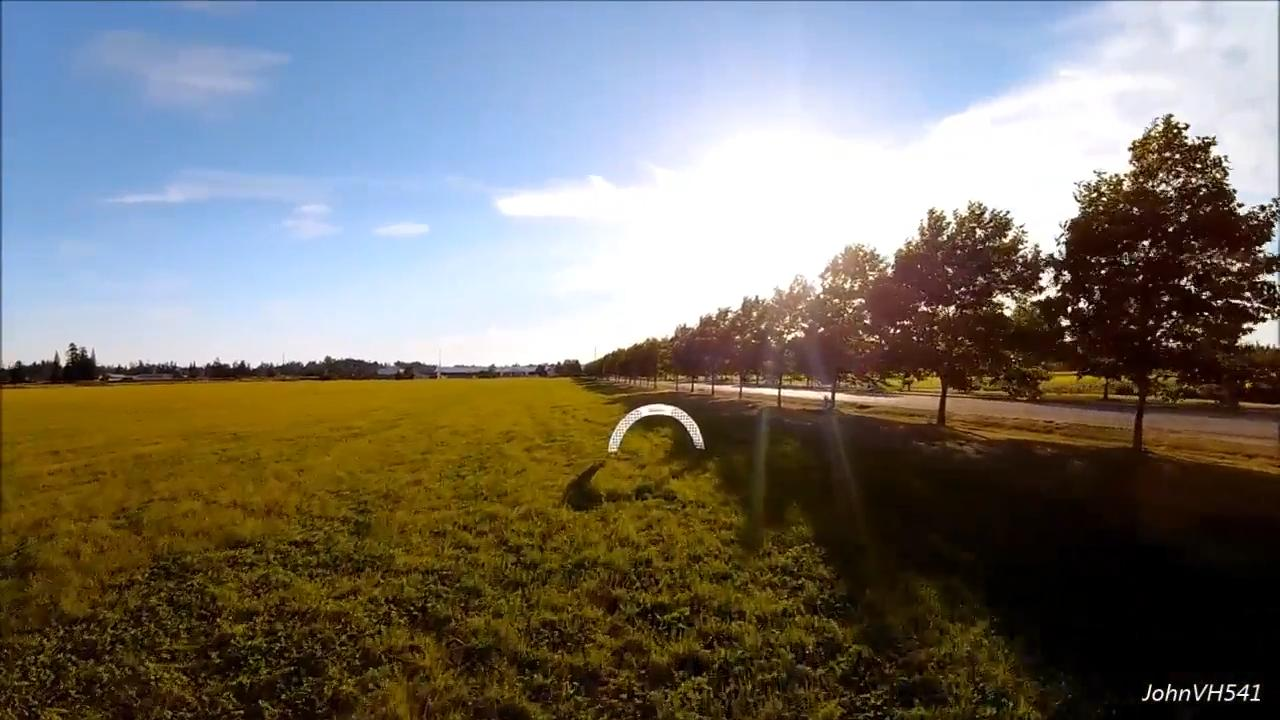gate: (605, 403, 707, 454)
